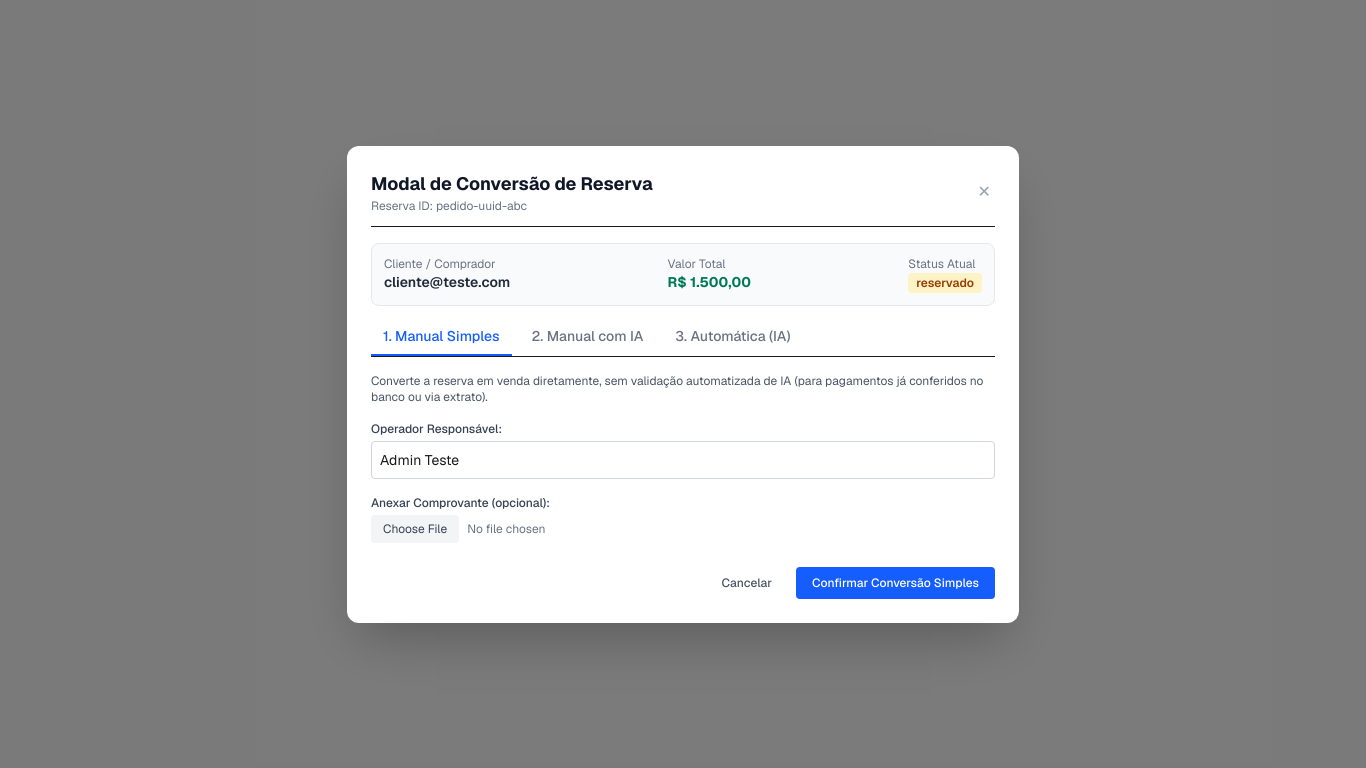
Test: ModalConversaoPedido › Modo 2 — Manual com IA › botão Auditar fica desabilitado sem arquivo selecionado
Click the button "2. Manual com IA".
click(587, 340)  # box [520,326,655,356]
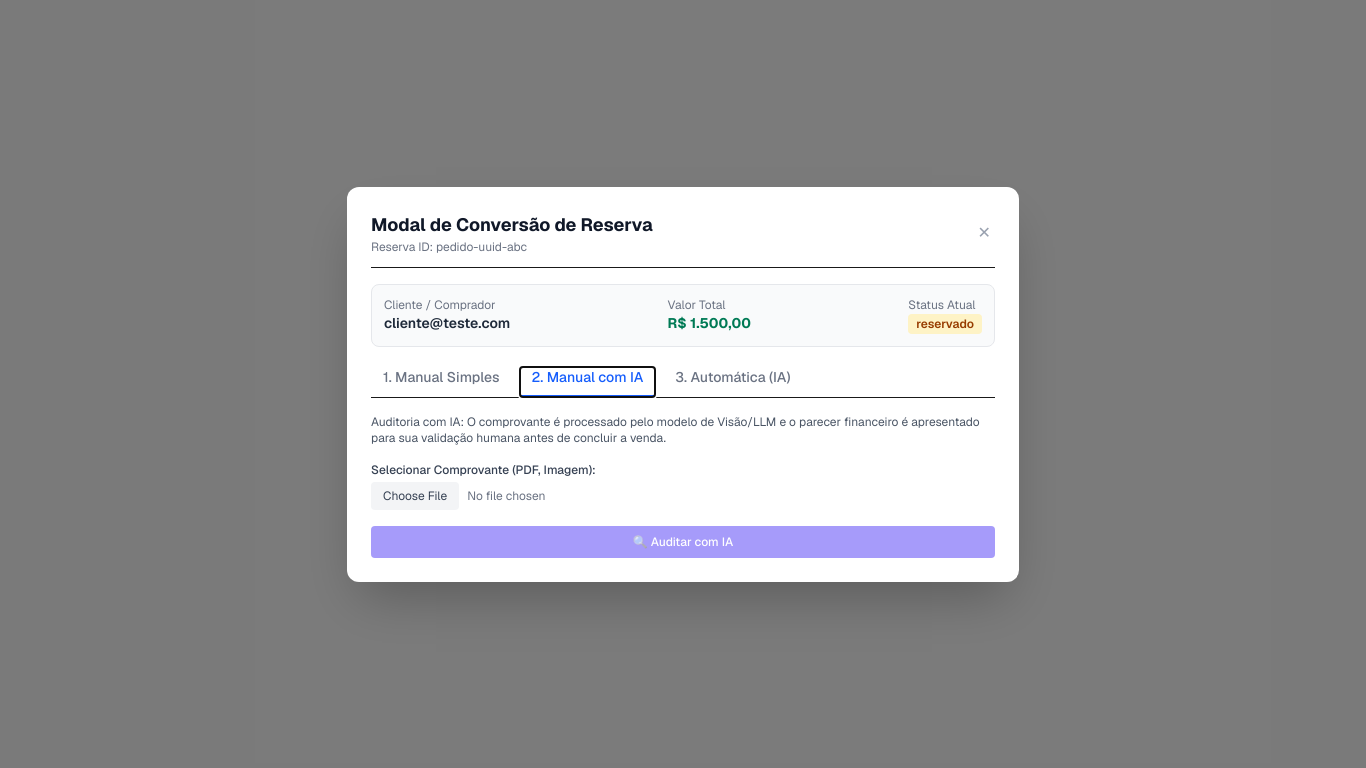
Check: the button "🔍 Auditar com IA" is disabled, box [371,526,995,558]
